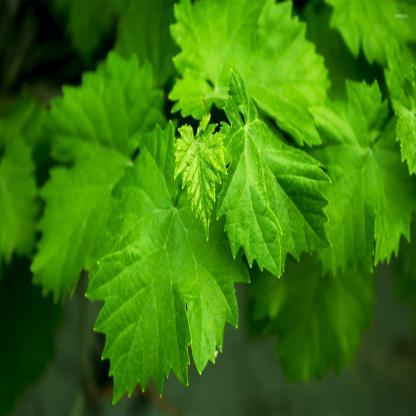grape leaf black rot: (92, 129, 235, 408), (220, 72, 326, 272), (174, 110, 228, 244)
